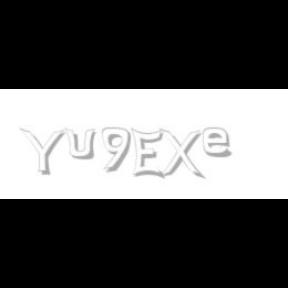9: (102, 128, 130, 172)
E: (130, 128, 163, 180)
X: (159, 128, 203, 180)
Y: (19, 128, 65, 176)
e: (202, 128, 235, 158)
u: (64, 128, 100, 160)
